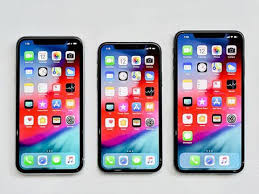huawei: (171, 29, 243, 172), (13, 34, 83, 176), (97, 39, 163, 173)
